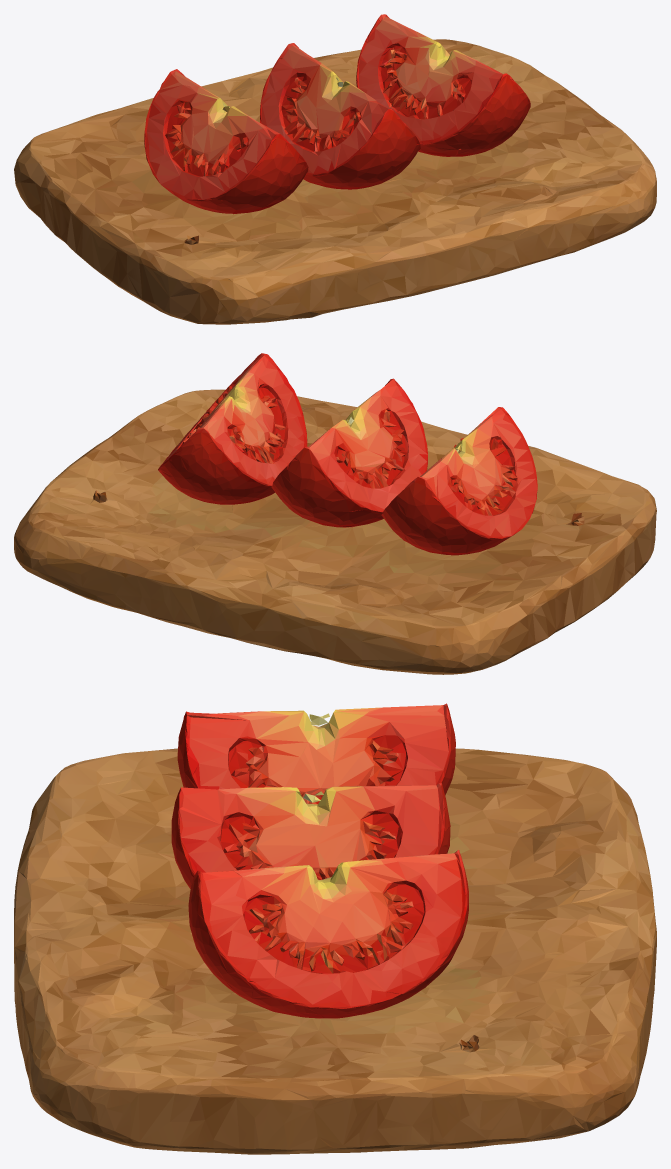
File: tomato_cut.glb
3 renders of one model, top to bottom at view 1: azimuth 30°, elevation 25°; view 2: azimuth 150°, elevation 25°; view 3: azimuth 270°, elevation 25°, orthographic. The views are drawn at different scales.
Visible parts, largest first — view 1: geometry_0; view 2: geometry_0; view 3: geometry_0.
Boxes of the visible parts, x1=… form: geometry_0: x1=14, y1=14, x2=656, y2=324; geometry_0: x1=14, y1=353, x2=656, y2=674; geometry_0: x1=14, y1=703, x2=656, y2=1154.
Size of the model in its own units: 0.25 by 0.068 by 0.197.
Materials: 1 (1 with a texture image).
